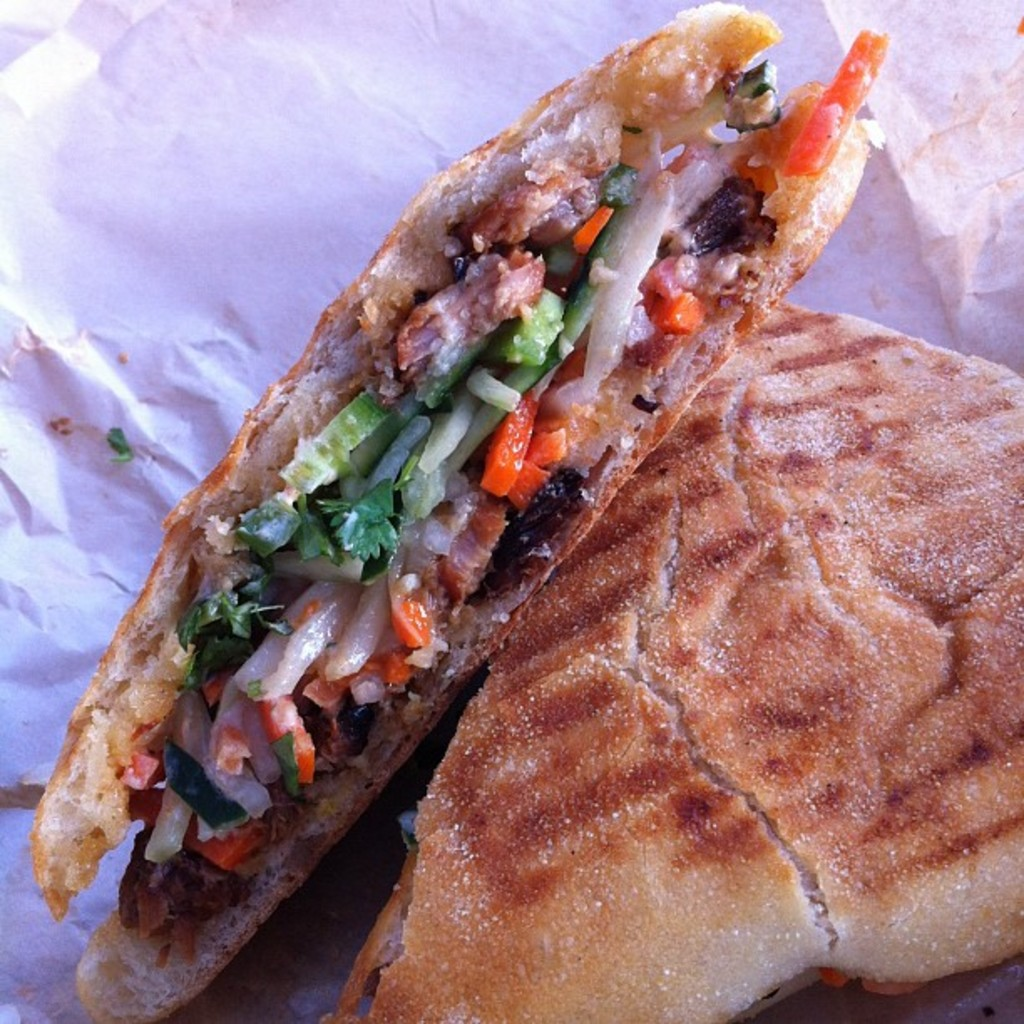sandwich: (30, 0, 892, 1022), (335, 298, 1022, 1022)
